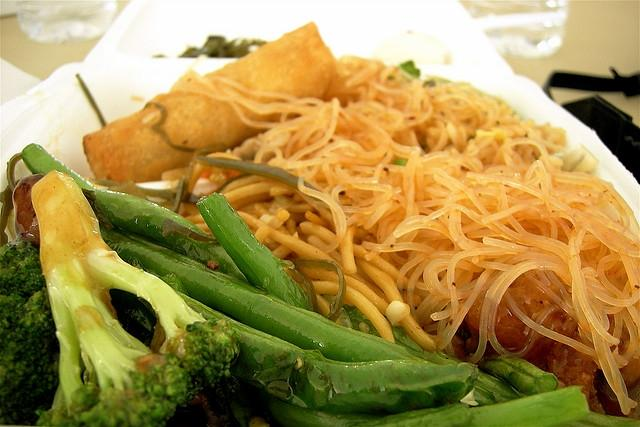broccoli: (31, 170, 240, 427), (0, 239, 60, 426)
green bean: (99, 224, 496, 408), (182, 297, 480, 417), (21, 144, 250, 284), (342, 304, 526, 408), (198, 192, 308, 310), (360, 384, 604, 427), (270, 396, 386, 426), (482, 356, 558, 395)
